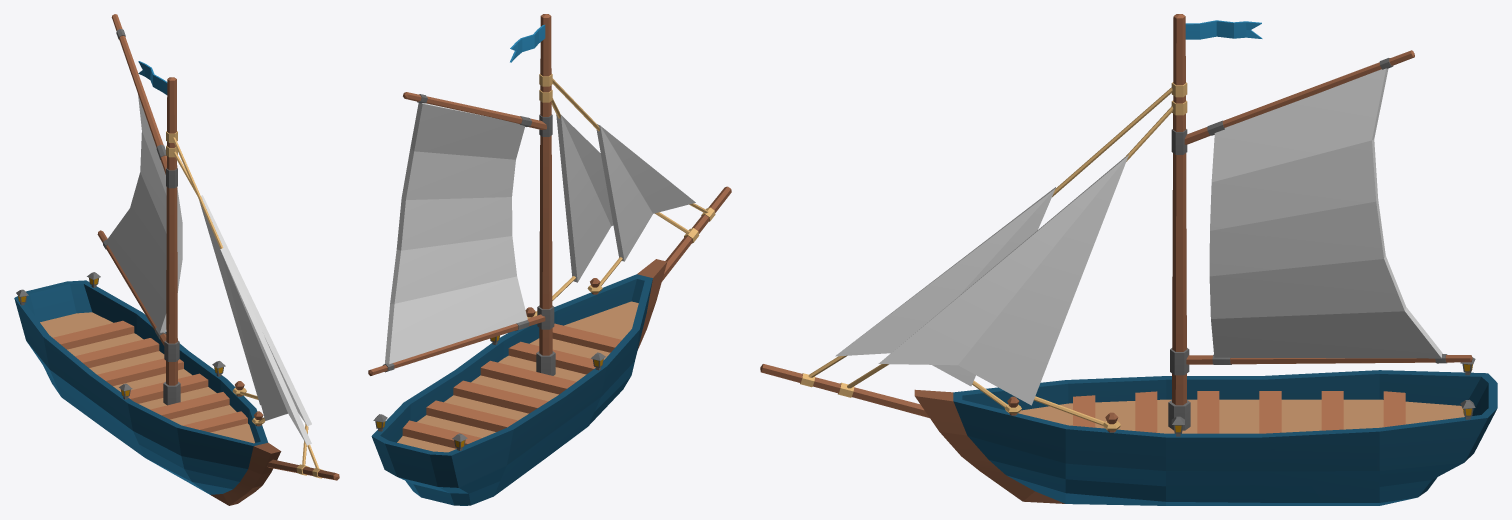
Rendered from ship-3.glb.
3 renders of one model, left to right at view 1: azimuth 30°, elevation 25°; view 2: azimuth 150°, elevation 25°; view 3: azimuth 270°, elevation 25°, orthographic. The views are drawn at different scales.
Visible parts, largest first — view 1: ship_3; view 2: ship_3; view 3: ship_3.
Boxes of the visible parts, x1,y1,x2,y2 form: ship_3: (14,14,339,505); ship_3: (368,14,731,505); ship_3: (760,14,1497,505).
Bounding box in the file's own units: 2.94 × 10.24 × 14.02.
1 material, 1 textured.
